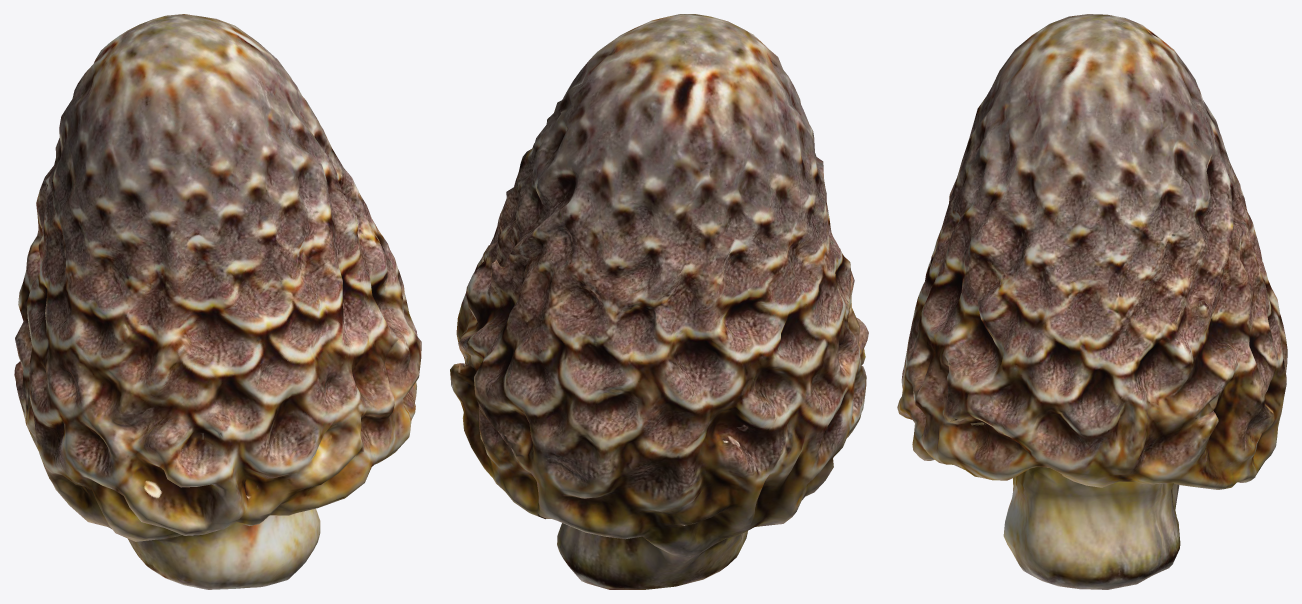
File: 806ad31b8a8e_998dbb099fea_morel_mushroom_min.glb
The picture shows the model from 3 angles, left to right: view 1: azimuth 30°, elevation 25°; view 2: azimuth 150°, elevation 25°; view 3: azimuth 270°, elevation 25°; orthographic projection. The views are drawn at different scales.
Visible parts, largest first — view 1: mesh; view 2: mesh; view 3: mesh.
Boxes of the visible parts, x1,y1,x2,y2 form: mesh: [14, 14, 421, 589]; mesh: [450, 14, 868, 589]; mesh: [897, 14, 1287, 589].
Size of the model in its own units: 0.6705 by 0.9994 by 0.6785.
1 material, 1 textured.
